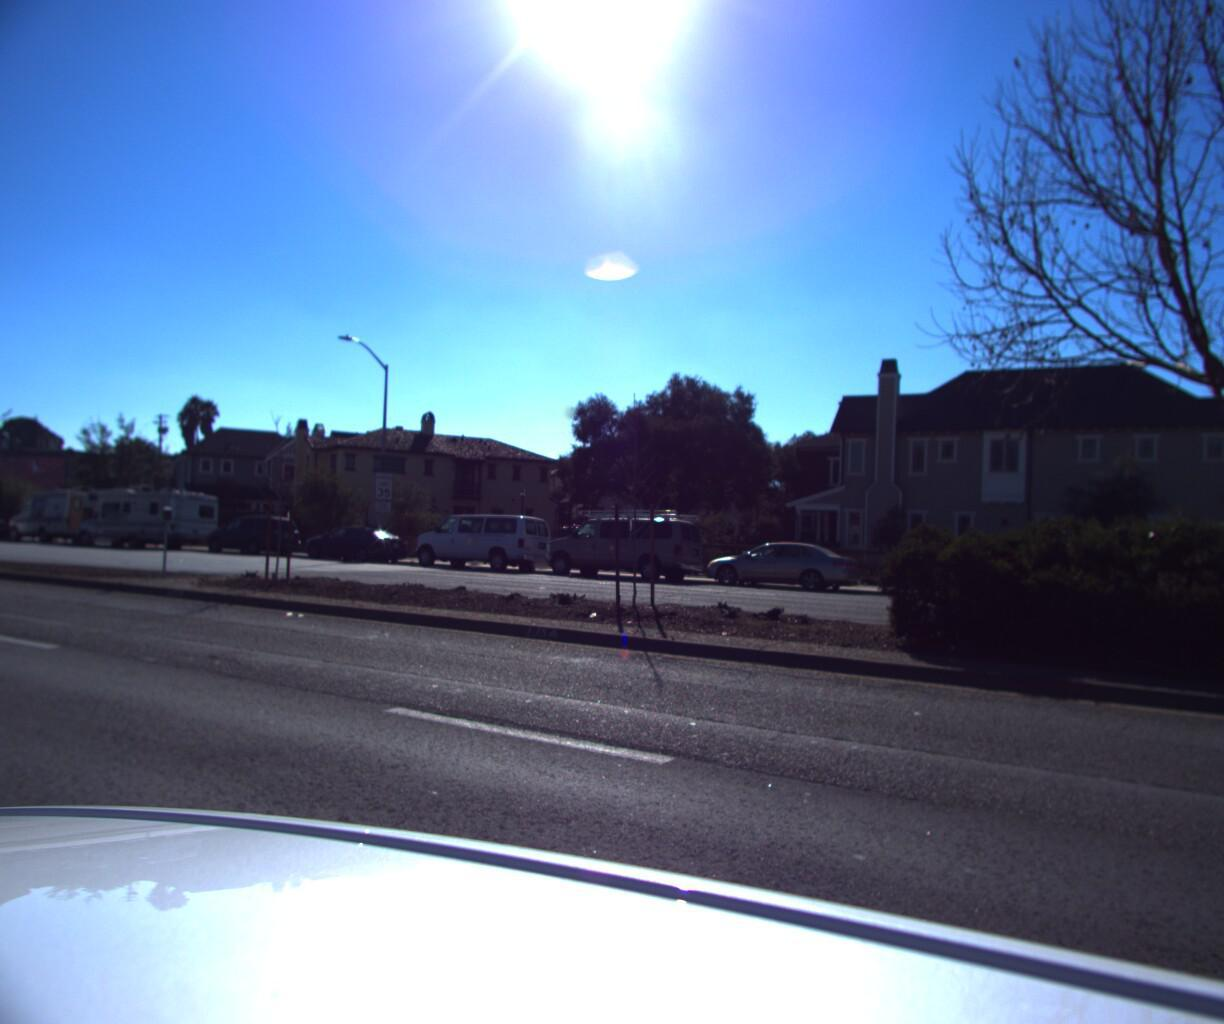car: (537, 508, 709, 582), (403, 507, 557, 574), (690, 536, 867, 590), (293, 523, 416, 566), (196, 513, 309, 559)
other_vehicle: (69, 483, 228, 552), (0, 484, 118, 548)
truck: (0, 473, 37, 542)
